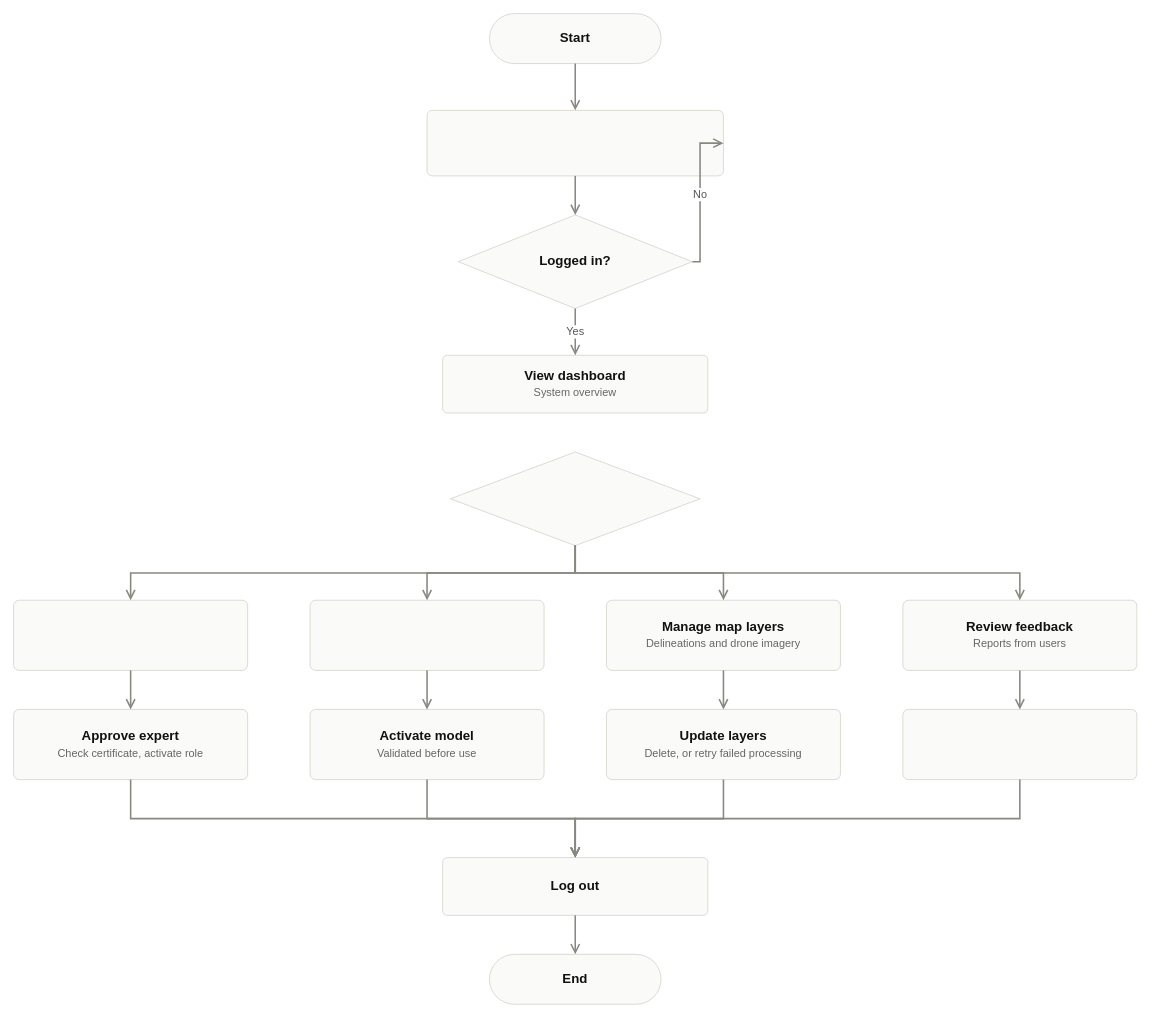
This 1151x1018 diagram has some shape labels left out. The centre of each missing label's shape, as x and y in pixels:
Log in Forgot password option: (x=574, y=143)
Manage AI models Upload segmentation and genus weights: (x=426, y=634)
Manage users Review expert applications: (x=130, y=634)
Select action: (x=575, y=498)
View activity logs Audit user actions: (x=1019, y=744)
